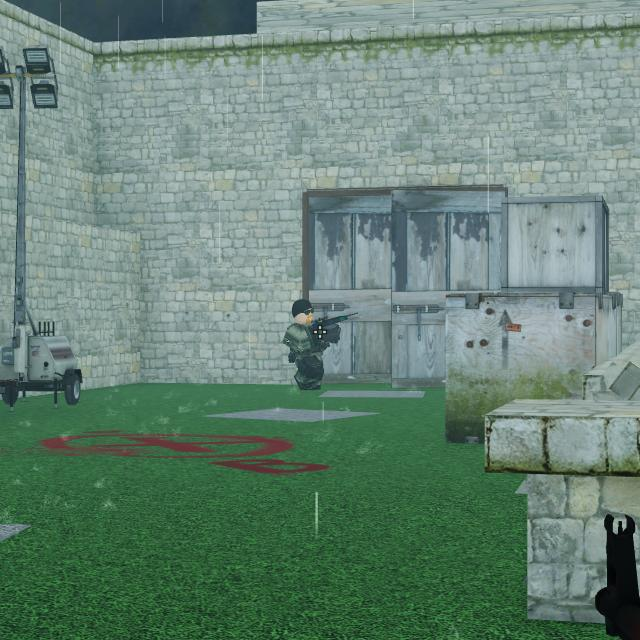Head: (292, 300, 314, 325)
Player: (284, 300, 339, 390)
